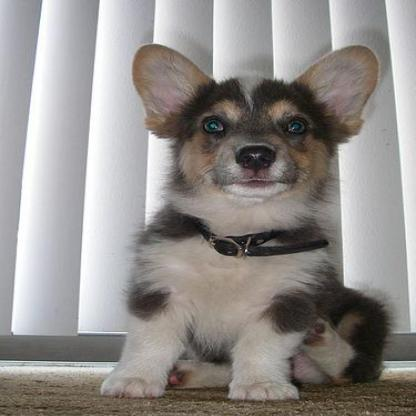Pembroke: (91, 42, 393, 401)
